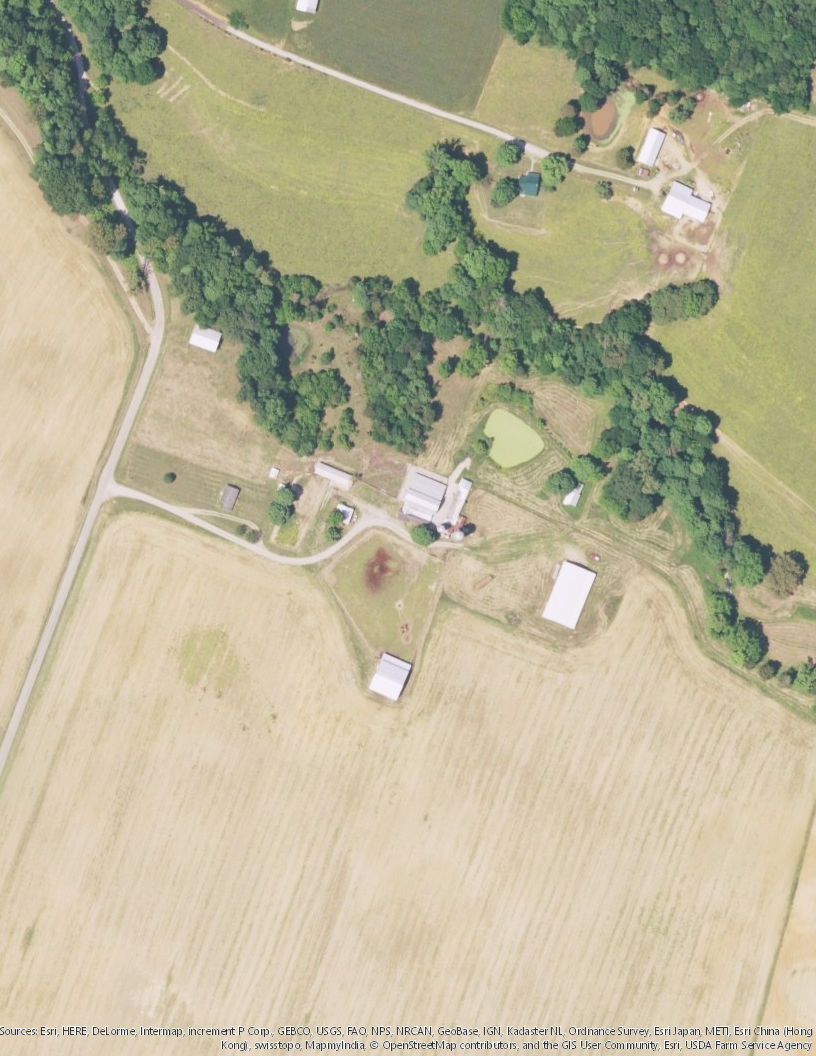cafo: (532, 556, 604, 643), (366, 649, 415, 711), (308, 457, 356, 491)
